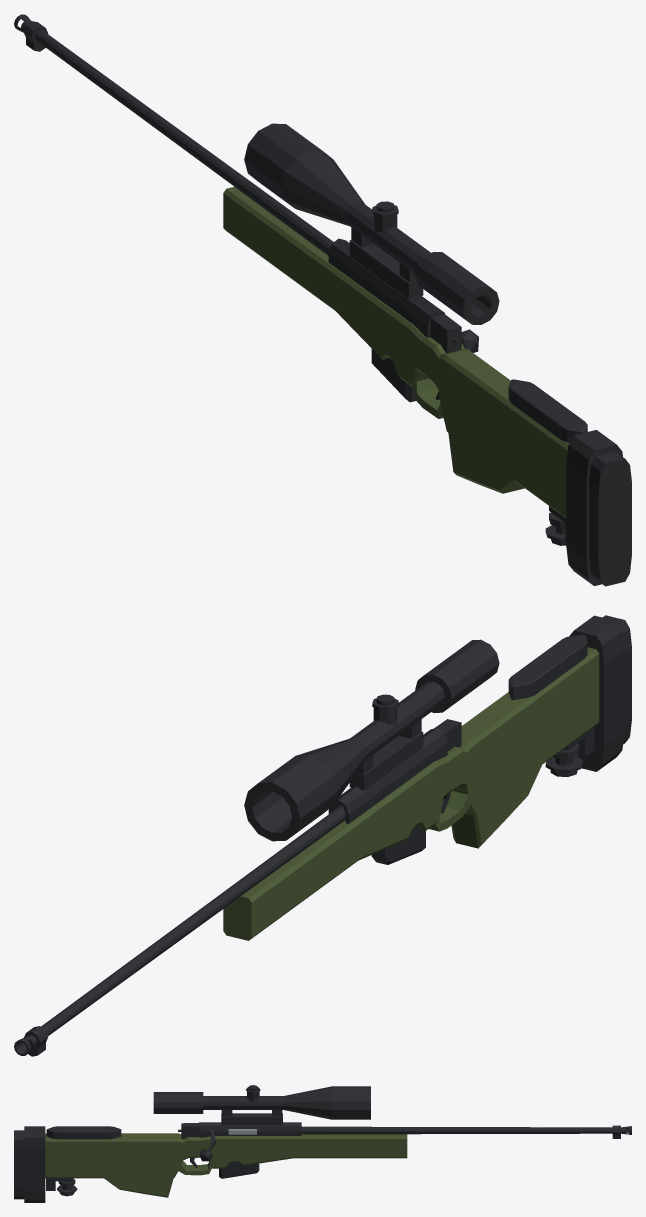
The model's file is sniper.glb.
The picture shows the model from 3 angles, top to bottom: view 1: azimuth 30°, elevation 25°; view 2: azimuth 150°, elevation 25°; view 3: azimuth 270°, elevation 25°; orthographic projection. The views are drawn at different scales.
Parts seen in each view (by area): view 1: body_dark_Black_Sniper02, body_metal_Green_Sniper_02, bolt_dark_Black_Sniper02, mag_dark_Black_Sniper02; view 2: body_dark_Black_Sniper02, body_metal_Green_Sniper_02, mag_dark_Black_Sniper02; view 3: body_dark_Black_Sniper02, body_metal_Green_Sniper_02, bolt_dark_Black_Sniper02, mag_dark_Black_Sniper02.
Part boxes in pixels (box(x1,y1,x2,y2)): body_dark_Black_Sniper02: box(14, 14, 631, 586); body_metal_Green_Sniper_02: box(223, 186, 569, 517); bolt_dark_Black_Sniper02: box(430, 314, 478, 353); mag_dark_Black_Sniper02: box(371, 349, 415, 402); body_dark_Black_Sniper02: box(14, 615, 631, 1056); body_metal_Green_Sniper_02: box(223, 647, 599, 940); mag_dark_Black_Sniper02: box(371, 825, 425, 864); body_dark_Black_Sniper02: box(14, 1085, 631, 1202); body_metal_Green_Sniper_02: box(45, 1133, 407, 1197); bolt_dark_Black_Sniper02: box(178, 1123, 215, 1161); mag_dark_Black_Sniper02: box(219, 1162, 259, 1178).
Size of the model in its own units: 0.0926 by 0.2518 by 1.25.
